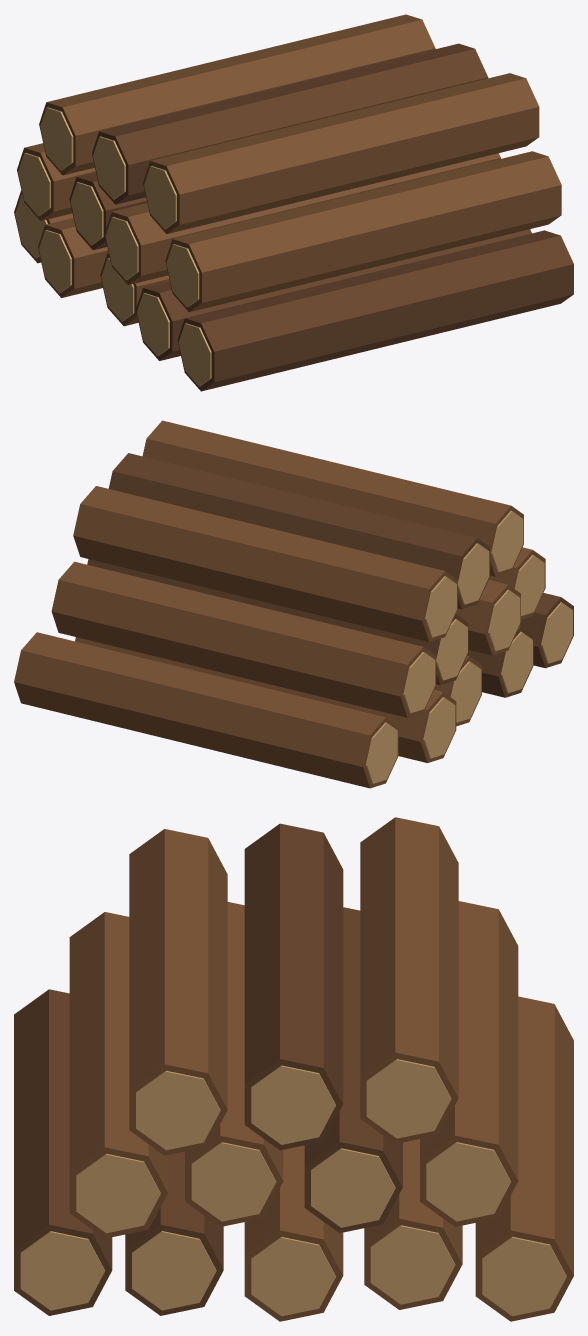
Rendered from pile_logs_3.glb.
The picture shows the model from 3 angles, top to bottom: view 1: azimuth 30°, elevation 25°; view 2: azimuth 150°, elevation 25°; view 3: azimuth 270°, elevation 25°; orthographic projection. The views are drawn at different scales.
Visible parts, largest first — view 1: pile_logs_3; view 2: pile_logs_3; view 3: pile_logs_3.
Part boxes in pixels (<box>): pile_logs_3: <box>14,14,573,391</box>; pile_logs_3: <box>14,420,573,788</box>; pile_logs_3: <box>14,817,573,1321</box>.
Bounding box in the file's own units: 1.48 × 0.7135 × 1.41.
